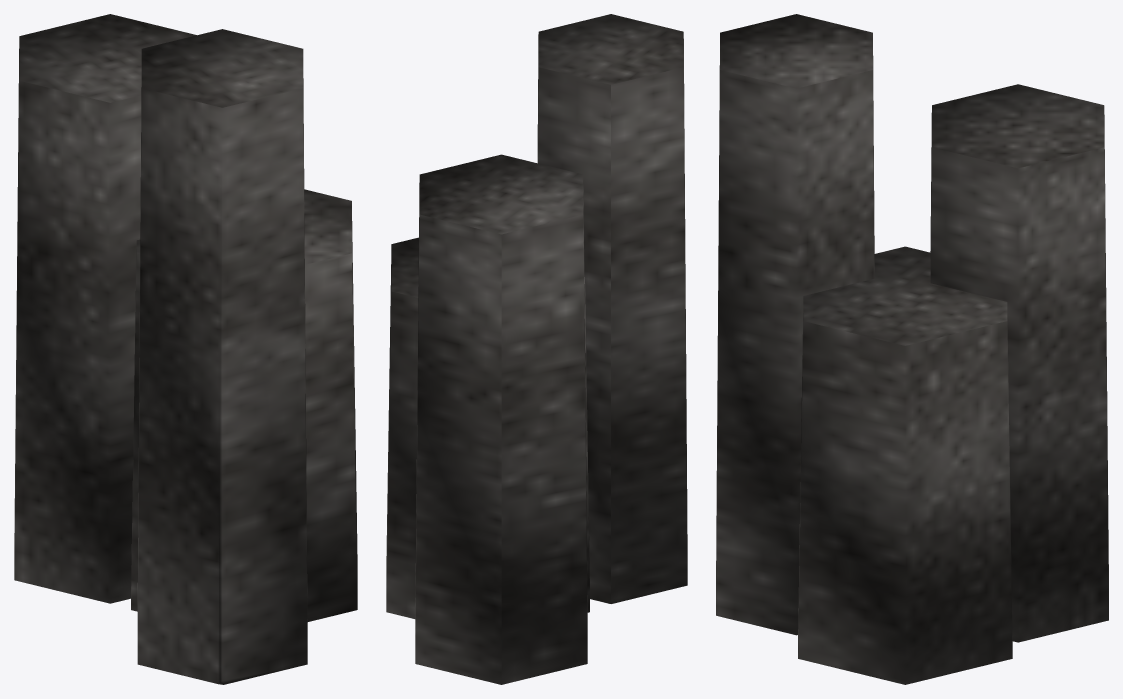
File: boulder_0.glb
3 renders of one model, left to right at view 1: azimuth 30°, elevation 25°; view 2: azimuth 150°, elevation 25°; view 3: azimuth 270°, elevation 25°, orthographic. The views are drawn at different scales.
Visible parts, largest first — view 1: boulder_0; view 2: boulder_0; view 3: boulder_0.
Part boxes in pixels (left/top/right/bottom): boulder_0: left=14, top=14, right=357, bottom=684; boulder_0: left=386, top=14, right=687, bottom=684; boulder_0: left=716, top=14, right=1108, bottom=684.
Size of the model in its own units: 1.23 by 2.38 by 1.55.
1 material, 1 textured.
